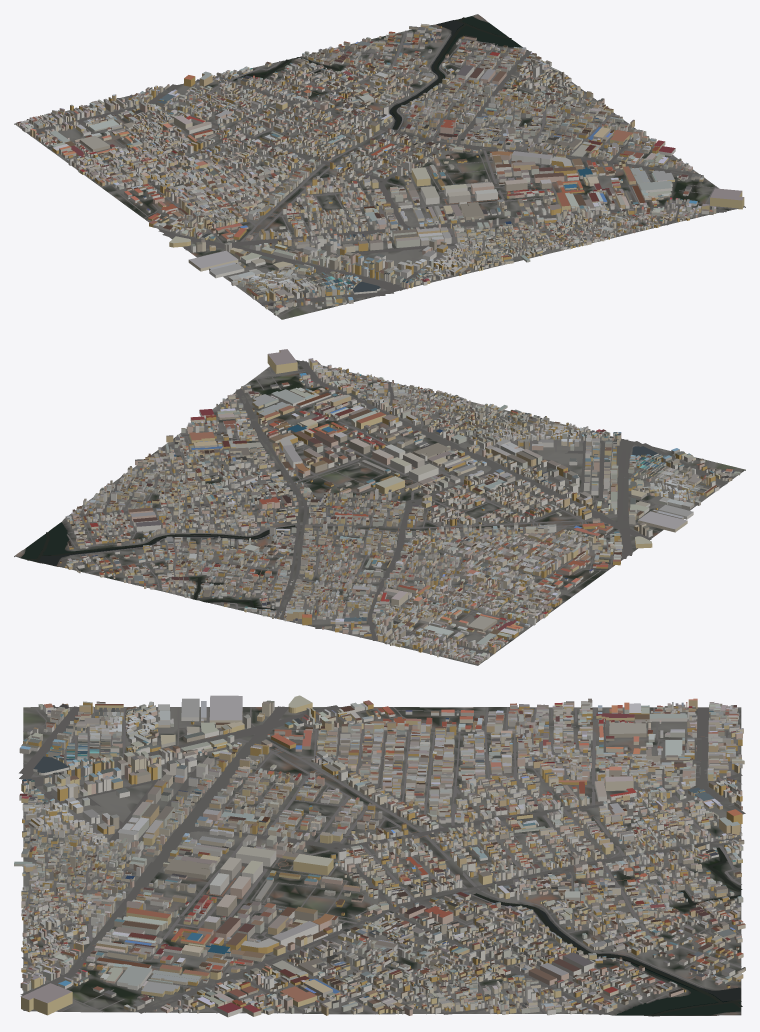
The picture shows the model from 3 angles, top to bottom: view 1: azimuth 30°, elevation 25°; view 2: azimuth 150°, elevation 25°; view 3: azimuth 270°, elevation 25°; orthographic projection. The views are drawn at different scales.
Parts seen in each view (by area): view 1: buildings, ground, roads, water; view 2: buildings, ground, roads, water; view 3: buildings, ground, roads, water.
Part boxes in pixels (left/top/right/bottom): buildings: left=16, top=23, right=744, bottom=315; ground: left=14, top=14, right=745, bottom=319; roads: left=26, top=30, right=736, bottom=316; water: left=233, top=16, right=522, bottom=129; buildings: left=60, top=349, right=740, bottom=664; ground: left=14, top=360, right=745, bottom=665; roads: left=65, top=360, right=741, bottom=663; water: left=21, top=522, right=295, bottom=610; buildings: left=14, top=695, right=745, bottom=1017; ground: left=23, top=707, right=741, bottom=1016; roads: left=19, top=705, right=745, bottom=1014; water: left=474, top=847, right=742, bottom=1016.
Size of the model in its own units: 1453 by 42.58 by 1428.
